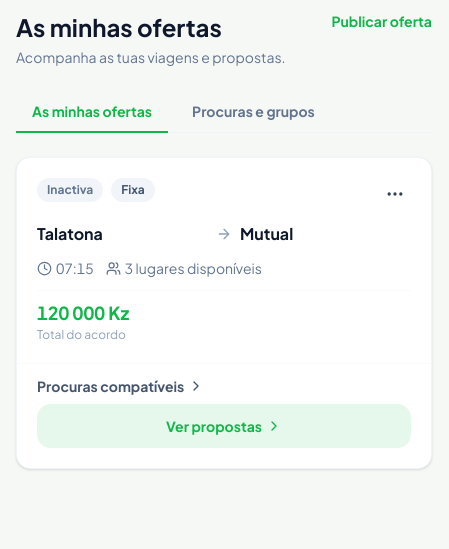
Test case: DriverDashboard — marketplace › reactivar mostra erro do servidor
The image size is (449, 549).
Check: the text "Inactiva" is shown, box [37,178,103,202]
Click the button named "Mais acções": point(395, 194) [379,178,411,210]
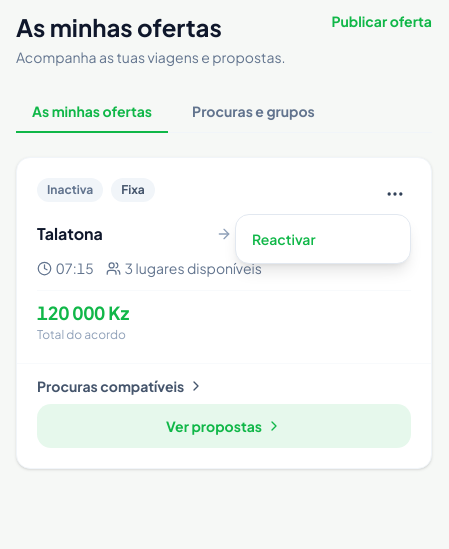
Click the menu item "Reactivar": point(323, 239) [236,219,410,259]
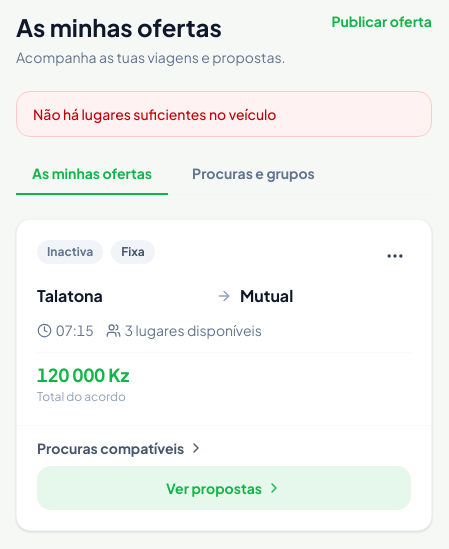
Check: the text "Não há lugares suficientes no veículo" is shown, box [16,91,432,137]
